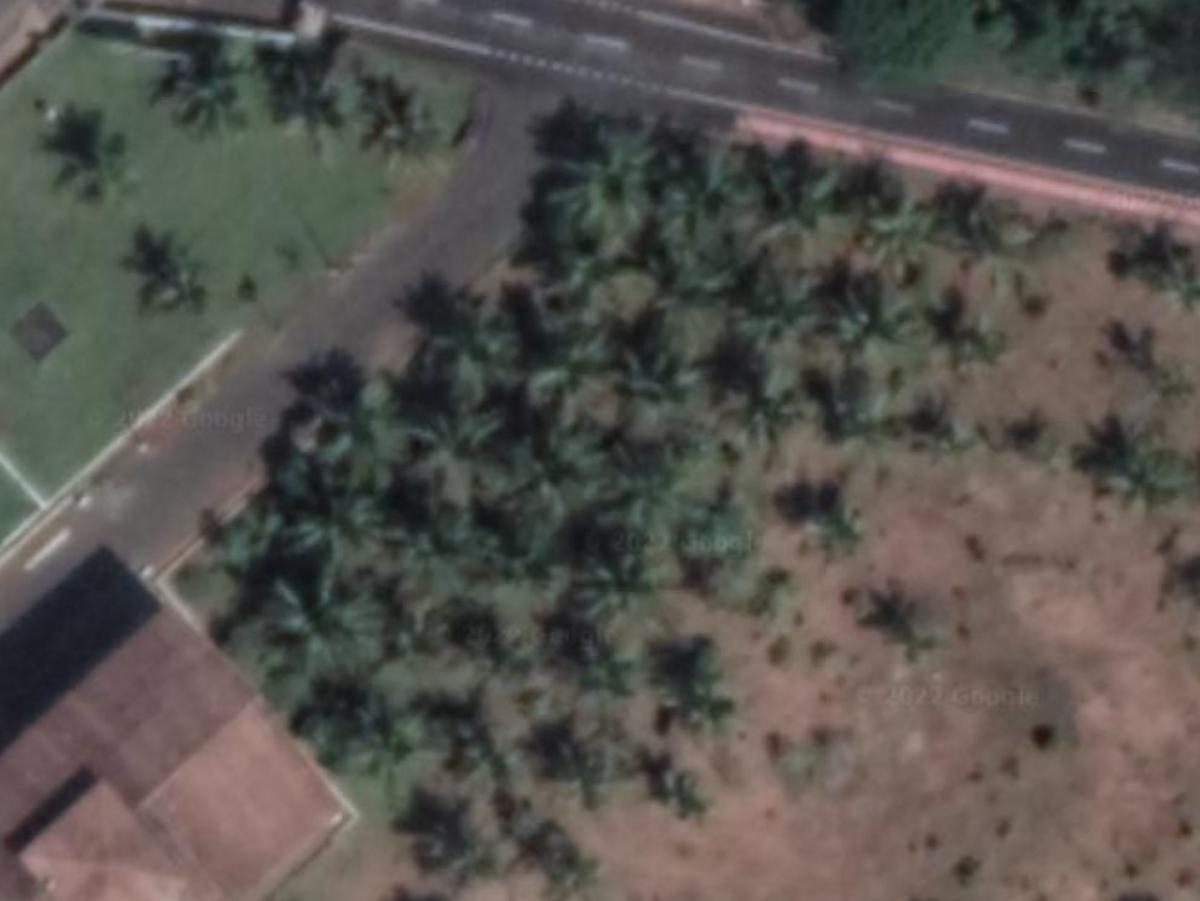coconut: (546, 119, 670, 261), (291, 368, 423, 499), (262, 568, 394, 682), (414, 299, 528, 406), (327, 690, 445, 792), (822, 267, 920, 357), (722, 274, 816, 364), (608, 338, 706, 424), (154, 58, 252, 137), (349, 85, 443, 166), (273, 64, 360, 151), (569, 539, 656, 619), (56, 129, 131, 203), (136, 247, 208, 318)
